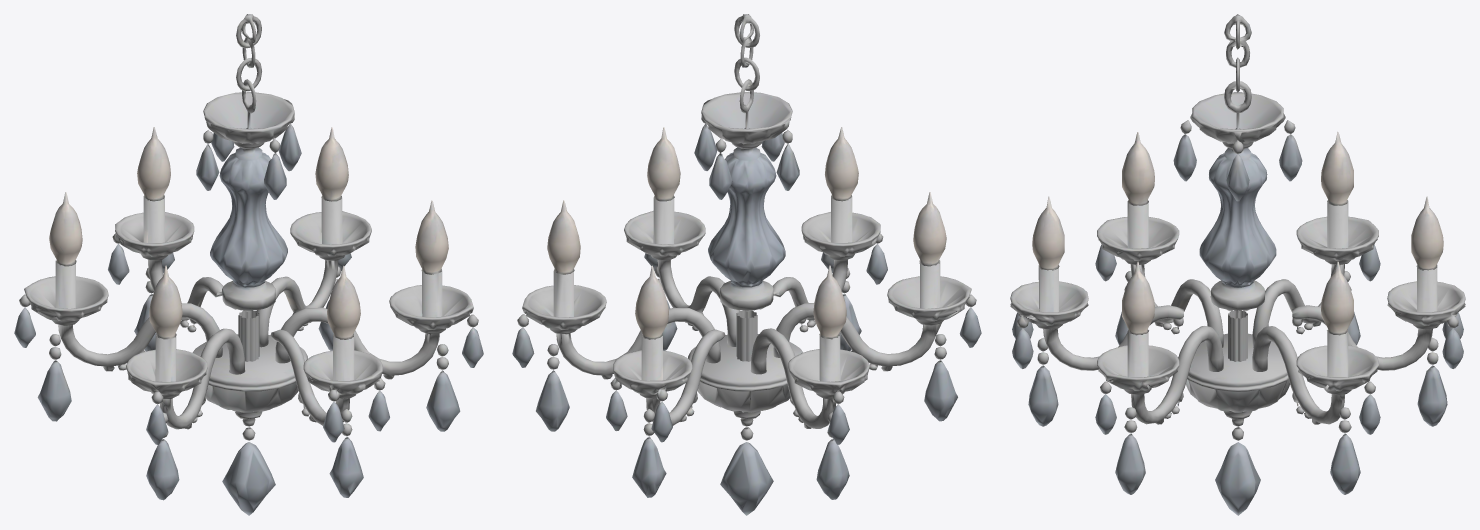
File: Decor__a_crystal_chandelier_6d36fe4e_v3.cluster.glb
3 views of the same model, side by side, from view 1: azimuth 30°, elevation 25°; view 2: azimuth 150°, elevation 25°; view 3: azimuth 270°, elevation 25° (orthographic).
Visible parts, largest first — view 1: material; view 2: material; view 3: material.
Boxes of the visible parts, box(x1,y1,x2,y2) form: material: box(14, 14, 483, 515); material: box(512, 14, 981, 515); material: box(1010, 14, 1465, 515).
Bounding box in the file's own units: 1.33 × 1.9 × 1.57.
1 material, 1 textured.
